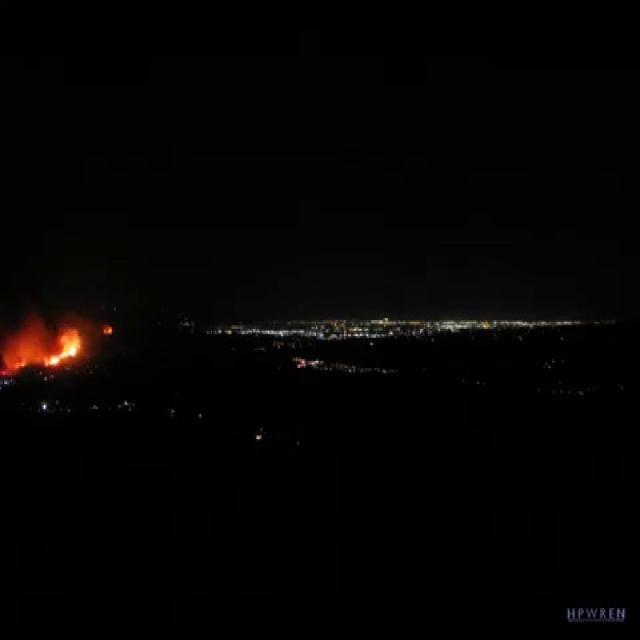Fire: (40, 332, 78, 364), (101, 324, 111, 336)
Smoke: (1, 312, 42, 378)
